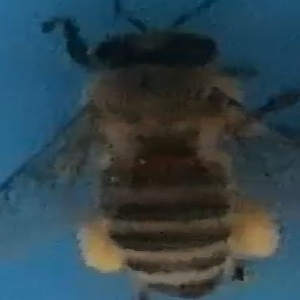bee: (22, 12, 292, 299)
